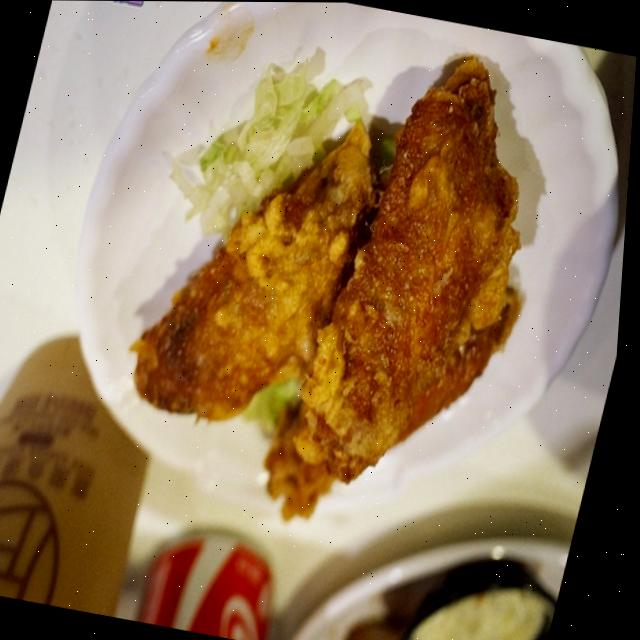鸡肉料理 含炸鸡: (67, 1, 607, 542)
